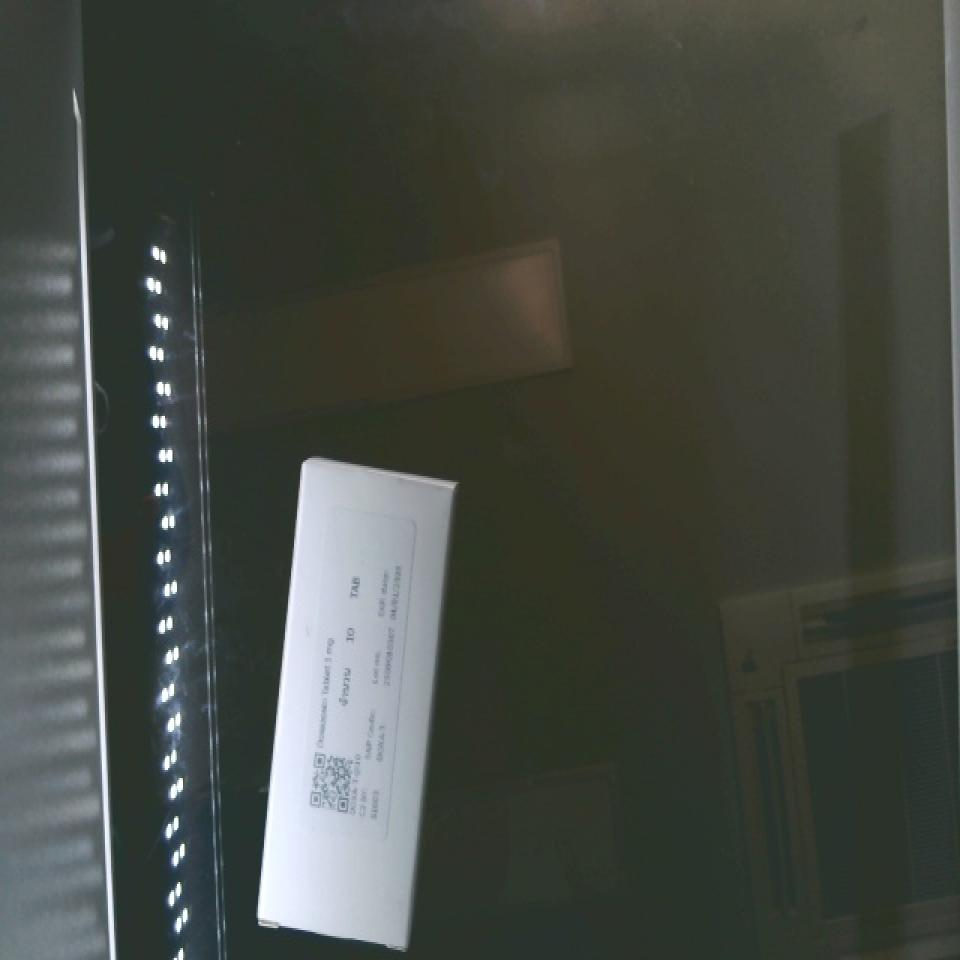medicine_box: (250, 462, 457, 946)
qr_code: (297, 734, 369, 831)
